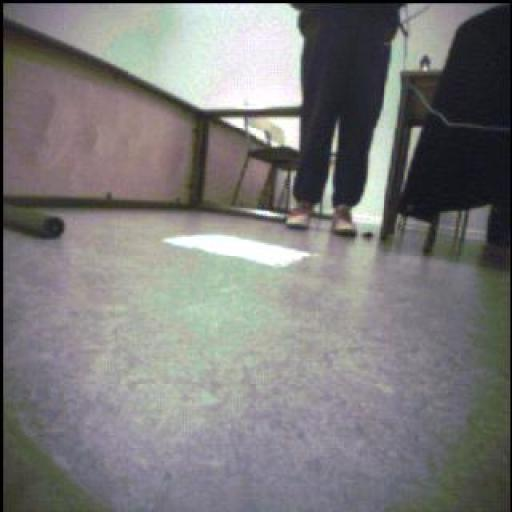Pad: (164, 235, 315, 268)
